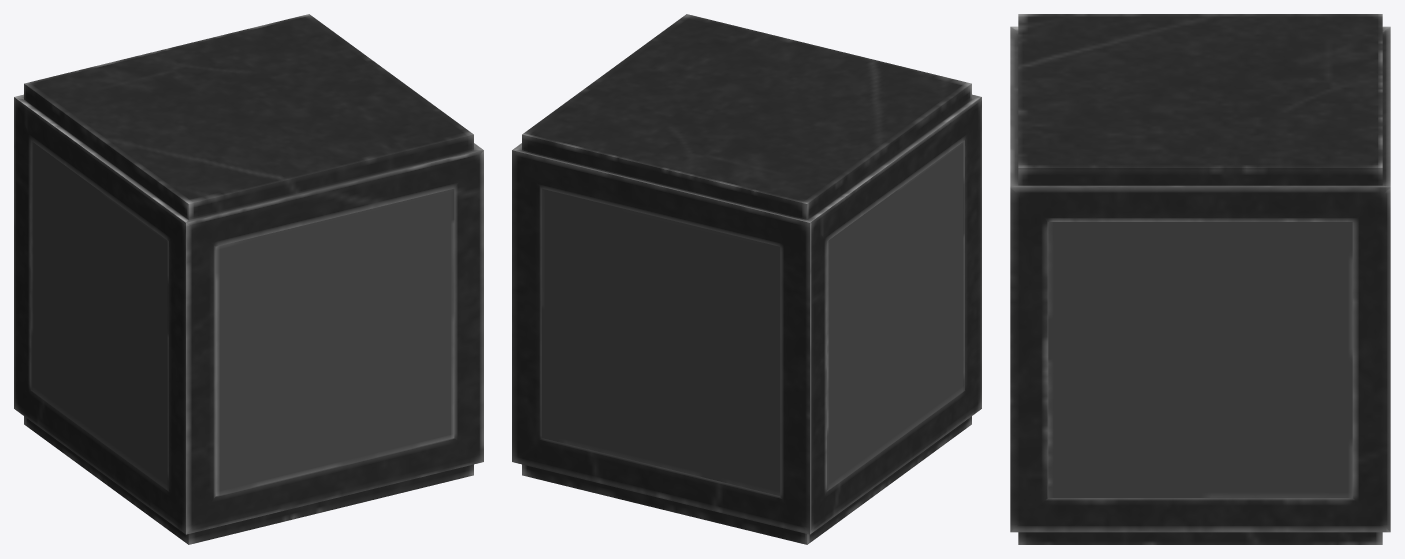
3 renders of one model, left to right at view 1: azimuth 30°, elevation 25°; view 2: azimuth 150°, elevation 25°; view 3: azimuth 270°, elevation 25°, orthographic. The views are drawn at different scales.
Parts seen in each view (by area): view 1: Cube; view 2: Cube; view 3: Cube.
Boxes of the visible parts, bbox=[...] form: Cube: bbox=[14, 14, 483, 544]; Cube: bbox=[512, 14, 981, 544]; Cube: bbox=[1010, 14, 1390, 544].
Size of the model in its own units: 0.6629 by 0.7246 by 0.6629.
